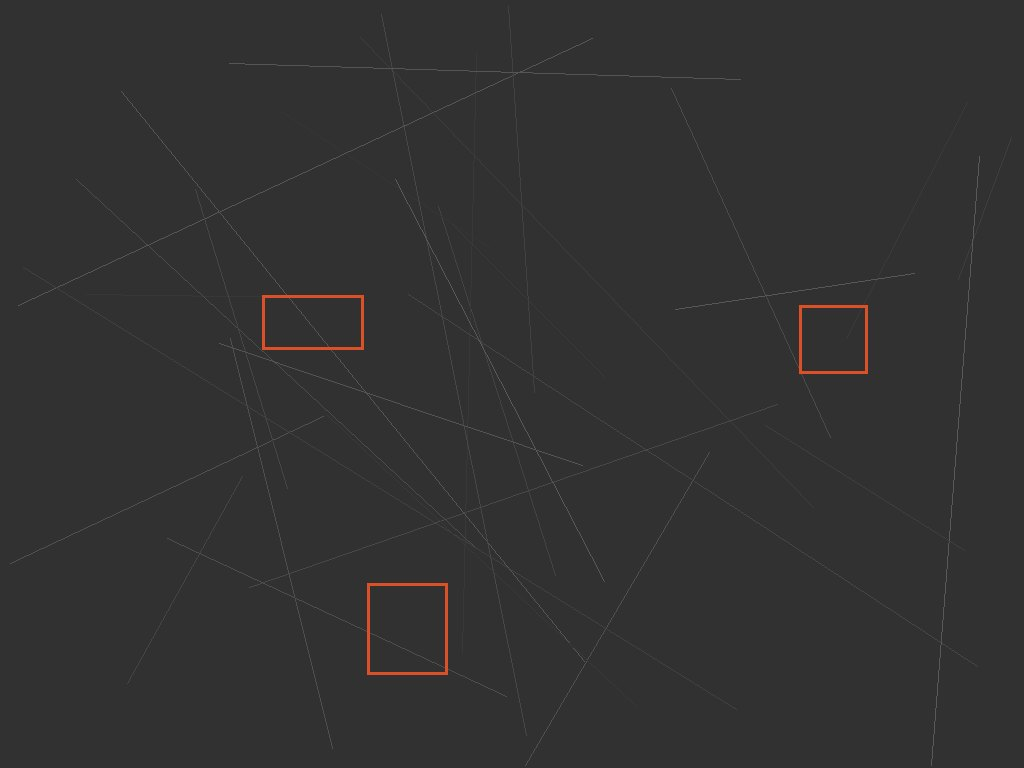D20: (367, 583, 447, 674), (262, 295, 363, 349)
D40: (799, 305, 867, 373)
